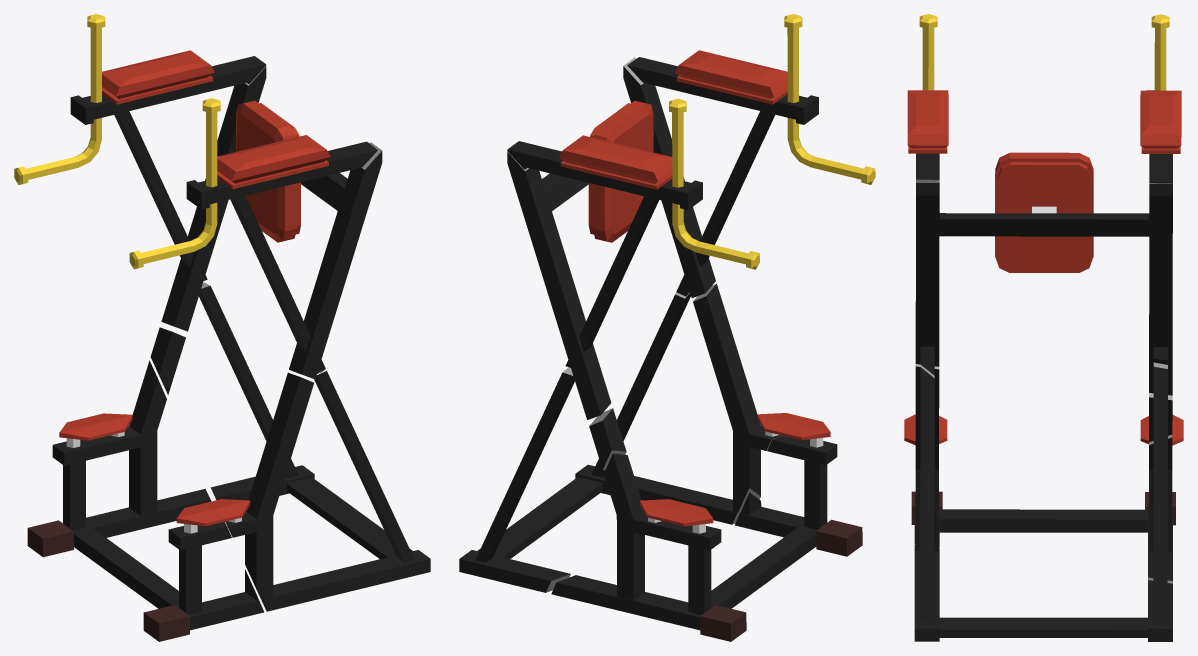
The model's file is May_tap_vai_DEST.fbx.
The picture shows the model from 3 angles, left to right: view 1: azimuth 30°, elevation 25°; view 2: azimuth 150°, elevation 25°; view 3: azimuth 270°, elevation 25°; orthographic projection.
Parts seen in each view (by area): view 1: Mesh_may_tap_vai.014, Mesh_may_tap_vai.023, Mesh_may_tap_vai.025, Mesh_may_tap_vai.008, Mesh_may_tap_vai.012, Mesh_may_tap_vai.029, Mesh_may_tap_vai.027, Mesh_may_tap_vai.005, Mesh_may_tap_vai.016, Mesh_may_tap_vai.015, Mesh_may_tap_vai.002, Mesh_may_tap_vai.026 (+11 smaller); view 2: Mesh_may_tap_vai.014, Mesh_may_tap_vai.029, Mesh_may_tap_vai.023, Mesh_may_tap_vai.008, Mesh_may_tap_vai.012, Mesh_may_tap_vai.016, Mesh_may_tap_vai.005, Mesh_may_tap_vai.025, Mesh_may_tap_vai.019, Mesh_may_tap_vai.015, Mesh_may_tap_vai.002, Mesh_may_tap_vai.026 (+11 smaller); view 3: Mesh_may_tap_vai.012, Mesh_may_tap_vai.014, Mesh_may_tap_vai, Mesh_may_tap_vai.029, Mesh_may_tap_vai.002, Mesh_may_tap_vai.025, Mesh_may_tap_vai.008, Mesh_may_tap_vai.019, Mesh_may_tap_vai.005, Mesh_may_tap_vai.016, Mesh_may_tap_vai.023, Mesh_may_tap_vai.027 (+8 smaller).
Boxes of the visible parts, x1,y1,x2,y2 form: Mesh_may_tap_vai.014: (27, 360, 263, 641); Mesh_may_tap_vai.023: (225, 372, 313, 599); Mesh_may_tap_vai.025: (289, 142, 382, 379); Mesh_may_tap_vai.008: (230, 196, 414, 562); Mesh_may_tap_vai.012: (236, 100, 300, 242); Mesh_may_tap_vai.029: (161, 66, 266, 331); Mesh_may_tap_vai.027: (261, 550, 430, 611); Mesh_may_tap_vai.005: (217, 135, 330, 189); Mesh_may_tap_vai.016: (102, 50, 214, 104); Mesh_may_tap_vai.015: (70, 56, 266, 124); Mesh_may_tap_vai.002: (287, 477, 412, 558); Mesh_may_tap_vai.026: (186, 141, 377, 209); Mesh_may_tap_vai.014: (551, 436, 862, 641); Mesh_may_tap_vai.029: (507, 151, 611, 419); Mesh_may_tap_vai.023: (693, 283, 782, 512); Mesh_may_tap_vai.008: (591, 111, 774, 477); Mesh_may_tap_vai.012: (588, 100, 653, 242); Mesh_may_tap_vai.016: (559, 135, 672, 189); Mesh_may_tap_vai.005: (674, 50, 787, 104); Mesh_may_tap_vai.025: (623, 57, 715, 297); Mesh_may_tap_vai.019: (475, 367, 574, 562); Mesh_may_tap_vai.015: (507, 141, 702, 209); Mesh_may_tap_vai.002: (477, 477, 603, 558); Mesh_may_tap_vai.026: (627, 57, 818, 124); Mesh_may_tap_vai.012: (995, 152, 1093, 272); Mesh_may_tap_vai.014: (911, 434, 1175, 583); Mesh_may_tap_vai: (939, 213, 1149, 236); Mesh_may_tap_vai.029: (1149, 184, 1172, 395); Mesh_may_tap_vai.002: (939, 617, 1147, 637); Mesh_may_tap_vai.025: (915, 183, 939, 366); Mesh_may_tap_vai.008: (920, 346, 934, 621); Mesh_may_tap_vai.019: (1153, 362, 1167, 622); Mesh_may_tap_vai.005: (907, 90, 948, 153); Mesh_may_tap_vai.016: (1140, 90, 1181, 153); Mesh_may_tap_vai.023: (915, 364, 939, 551); Mesh_may_tap_vai.027: (914, 545, 939, 641).
Size of the model in its own units: 12.66 by 21.58 by 10.43.
